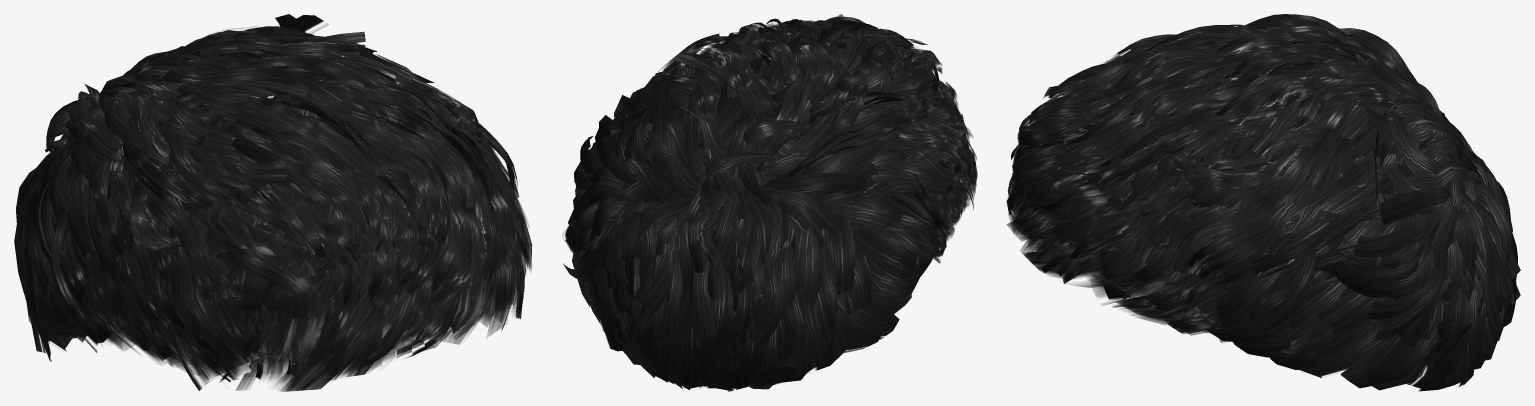
Rendered from Diamond_Straight_03.glb.
3 renders of one model, left to right at view 1: azimuth 30°, elevation 25°; view 2: azimuth 150°, elevation 25°; view 3: azimuth 270°, elevation 25°, orthographic. The views are drawn at different scales.
Parts seen in each view (by area): view 1: diamond straight 03 textured crop; view 2: diamond straight 03 textured crop; view 3: diamond straight 03 textured crop.
Boxes of the visible parts, <box> form: diamond straight 03 textured crop: <box>14,14,532,391</box>; diamond straight 03 textured crop: <box>562,14,977,391</box>; diamond straight 03 textured crop: <box>1006,14,1520,391</box>.
Size of the model in its own units: 0.1962 by 0.1579 by 0.2349.
Materials: 1 (1 with a texture image).
